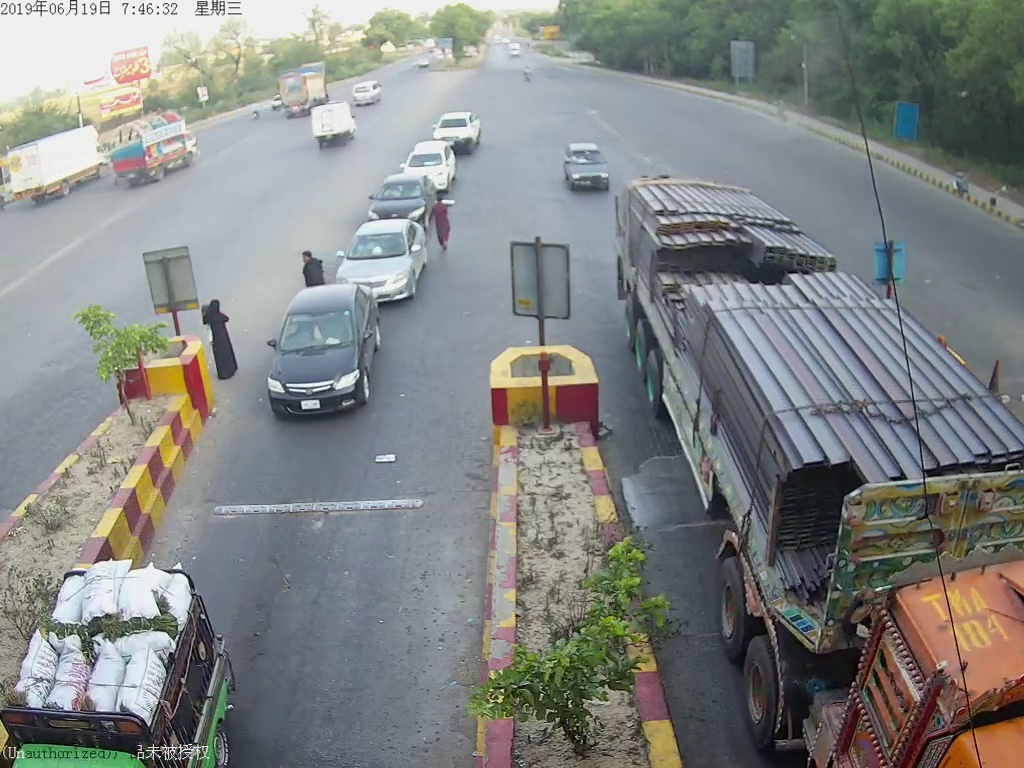Cat-1: (273, 290, 384, 415), (339, 220, 424, 292), (560, 136, 609, 195)
